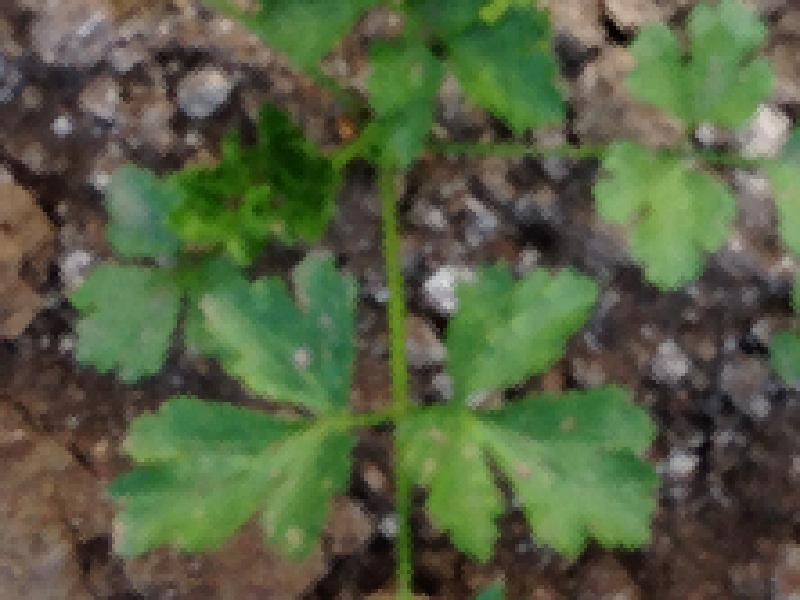radish: (56, 0, 785, 600)
